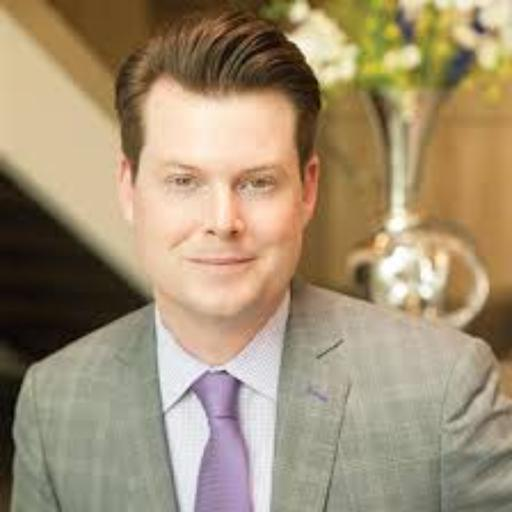left_eye: (237, 177, 279, 195)
left_lip_corner: (246, 254, 264, 268)
right_eye: (165, 176, 203, 192)
right_lip_corner: (179, 254, 201, 269)
